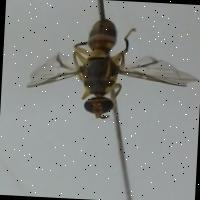Oriental-fruit-fly: (24, 14, 200, 133)
